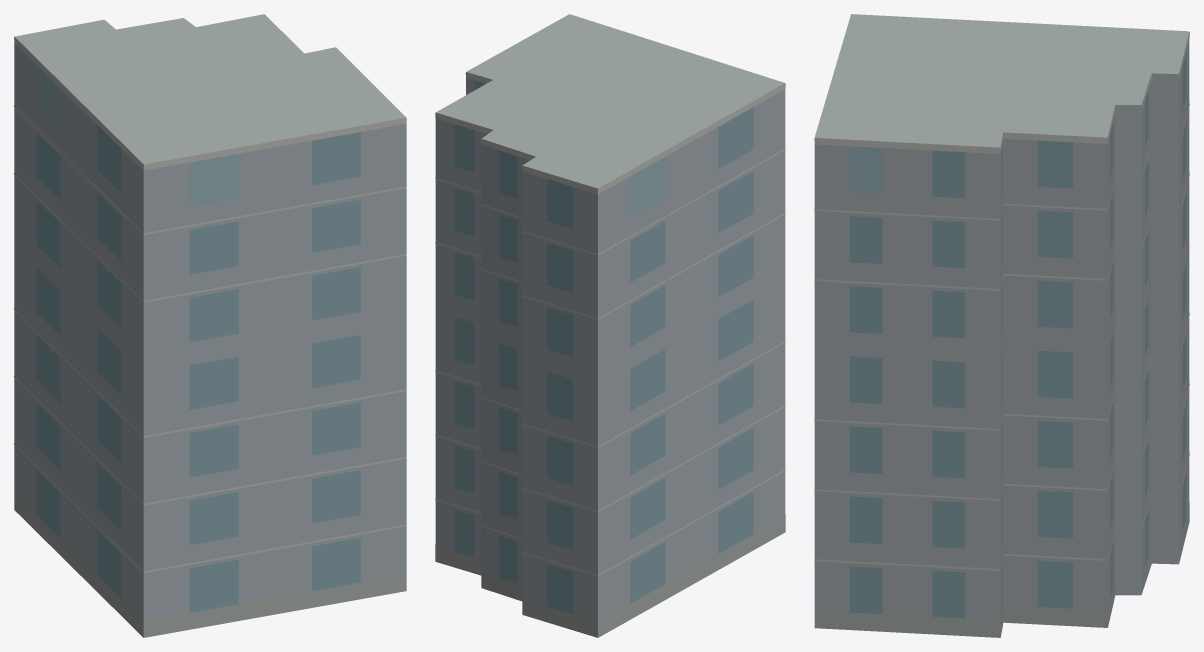
The model's file is survey-upis-33036483.glb.
The picture shows the model from 3 angles, left to right: view 1: azimuth 30°, elevation 25°; view 2: azimuth 150°, elevation 25°; view 3: azimuth 270°, elevation 25°; orthographic projection. The views are drawn at different scales.
Visible parts, largest first — view 1: survey-upis-33036483.tmp; view 2: survey-upis-33036483.tmp; view 3: survey-upis-33036483.tmp.
Part boxes in pixels (x1,y1,x2,y2): survey-upis-33036483.tmp: [14, 14, 406, 637]; survey-upis-33036483.tmp: [435, 14, 785, 637]; survey-upis-33036483.tmp: [814, 14, 1189, 637].
Bounding box in the file's own units: 10.84 × 18.5 × 12.85.
